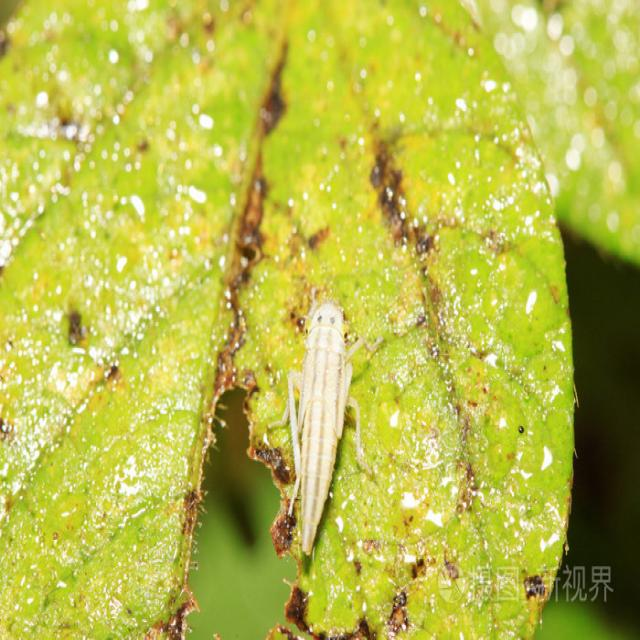Yechan: (284, 294, 358, 560)
